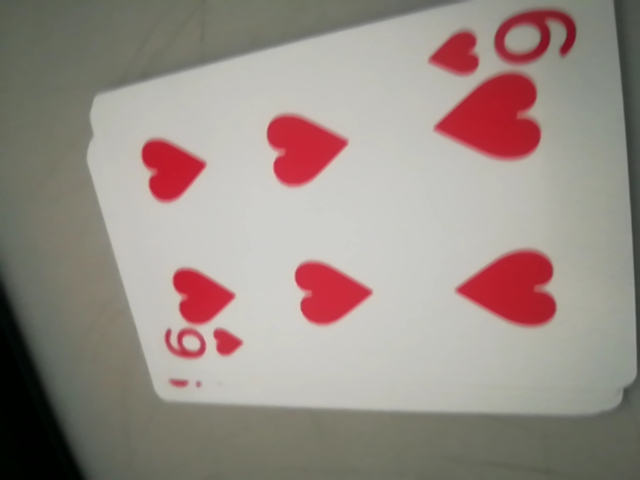hx 6: (426, 5, 581, 80), (155, 322, 250, 365)
